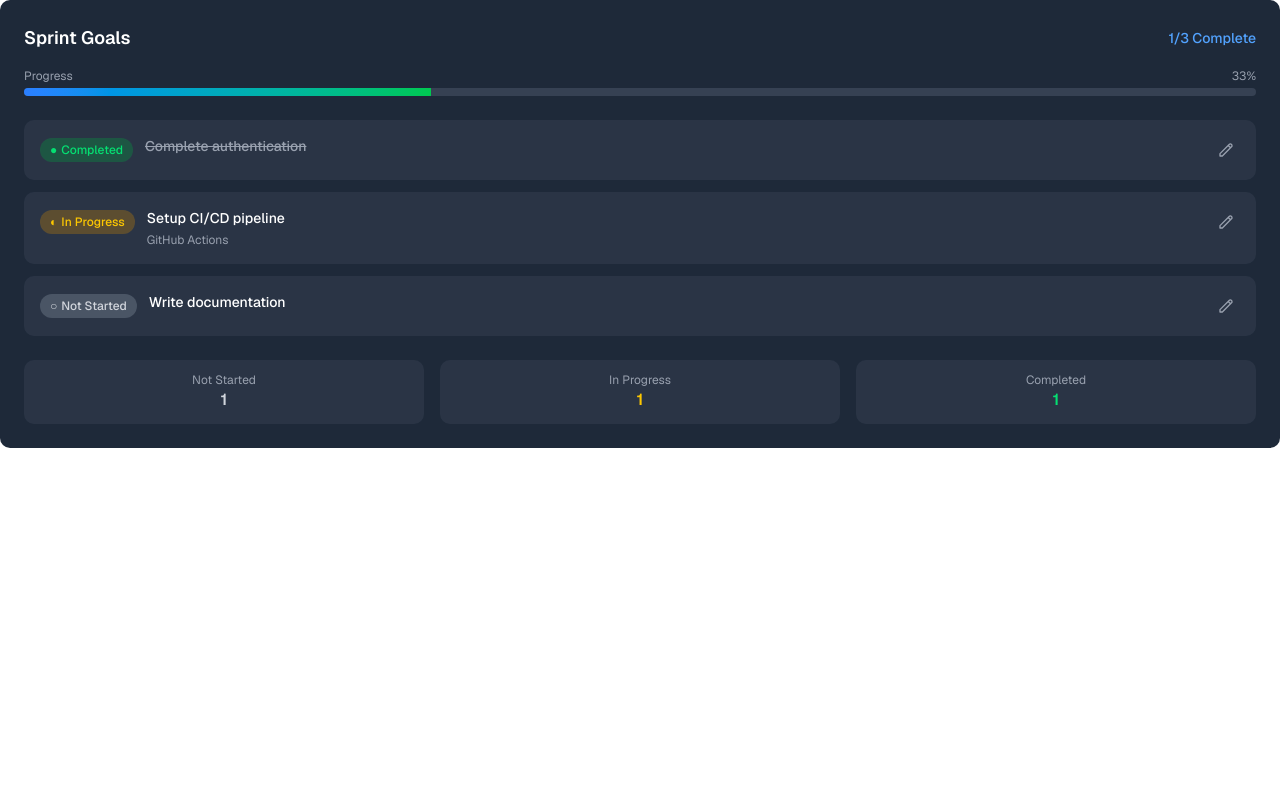
Test case: SprintGoals › enters edit mode when clicking edit button
This screenshot has width=1280, height=800.
Click the button titled "Edit goal" in the row of "Complete authentication".
click(1226, 150)  # box [1212,136,1240,164]
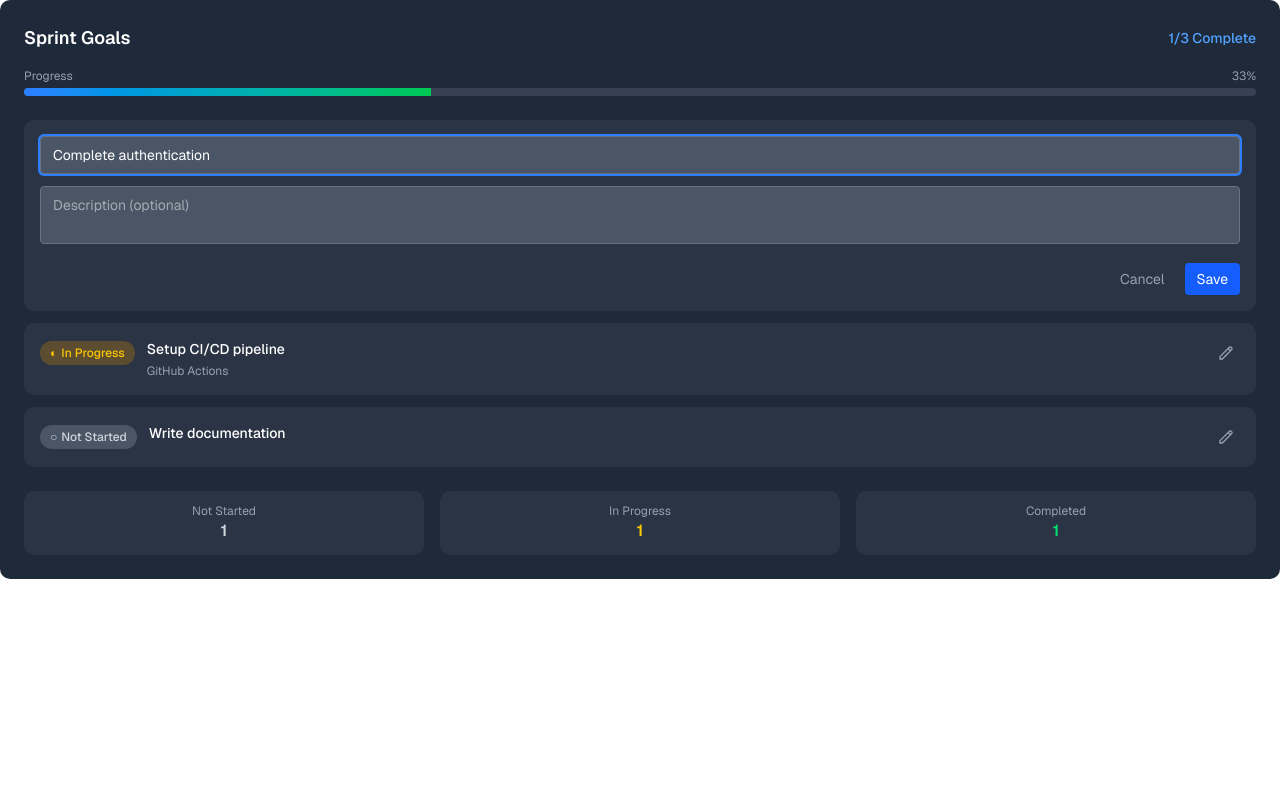
Check: the field showing "Complete authentication" is shown, box [40,136,1240,174]
